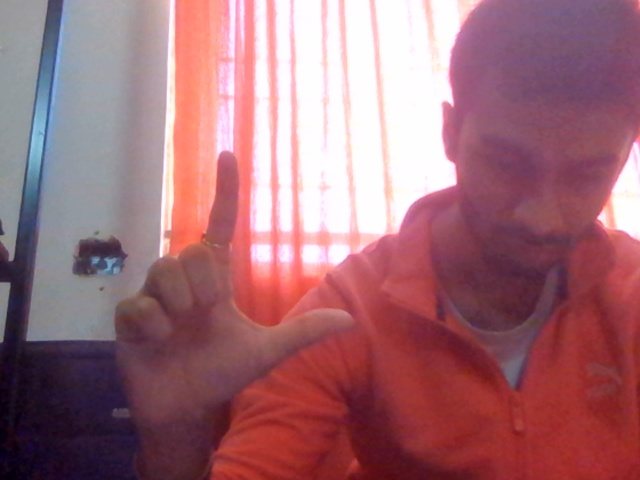L: (82, 131, 373, 480)
